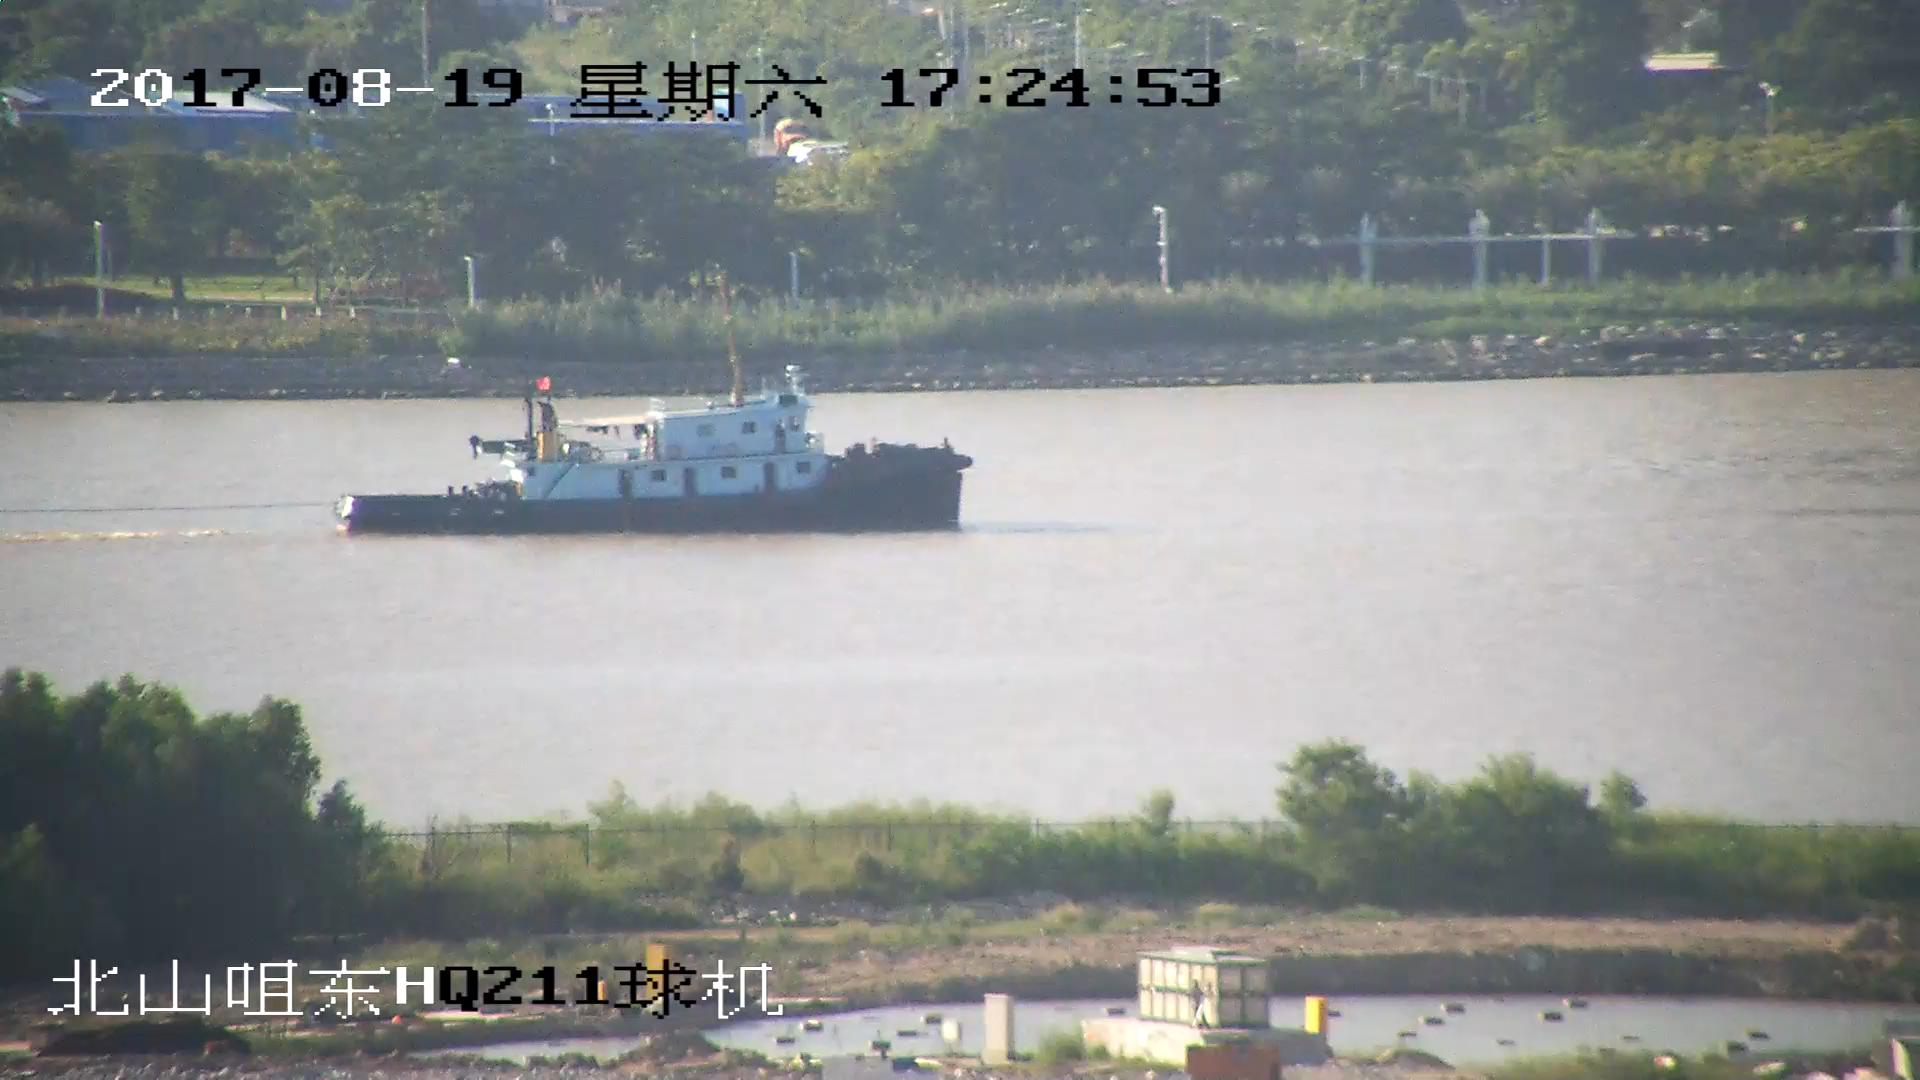fishing boat: (335, 369, 968, 536)
